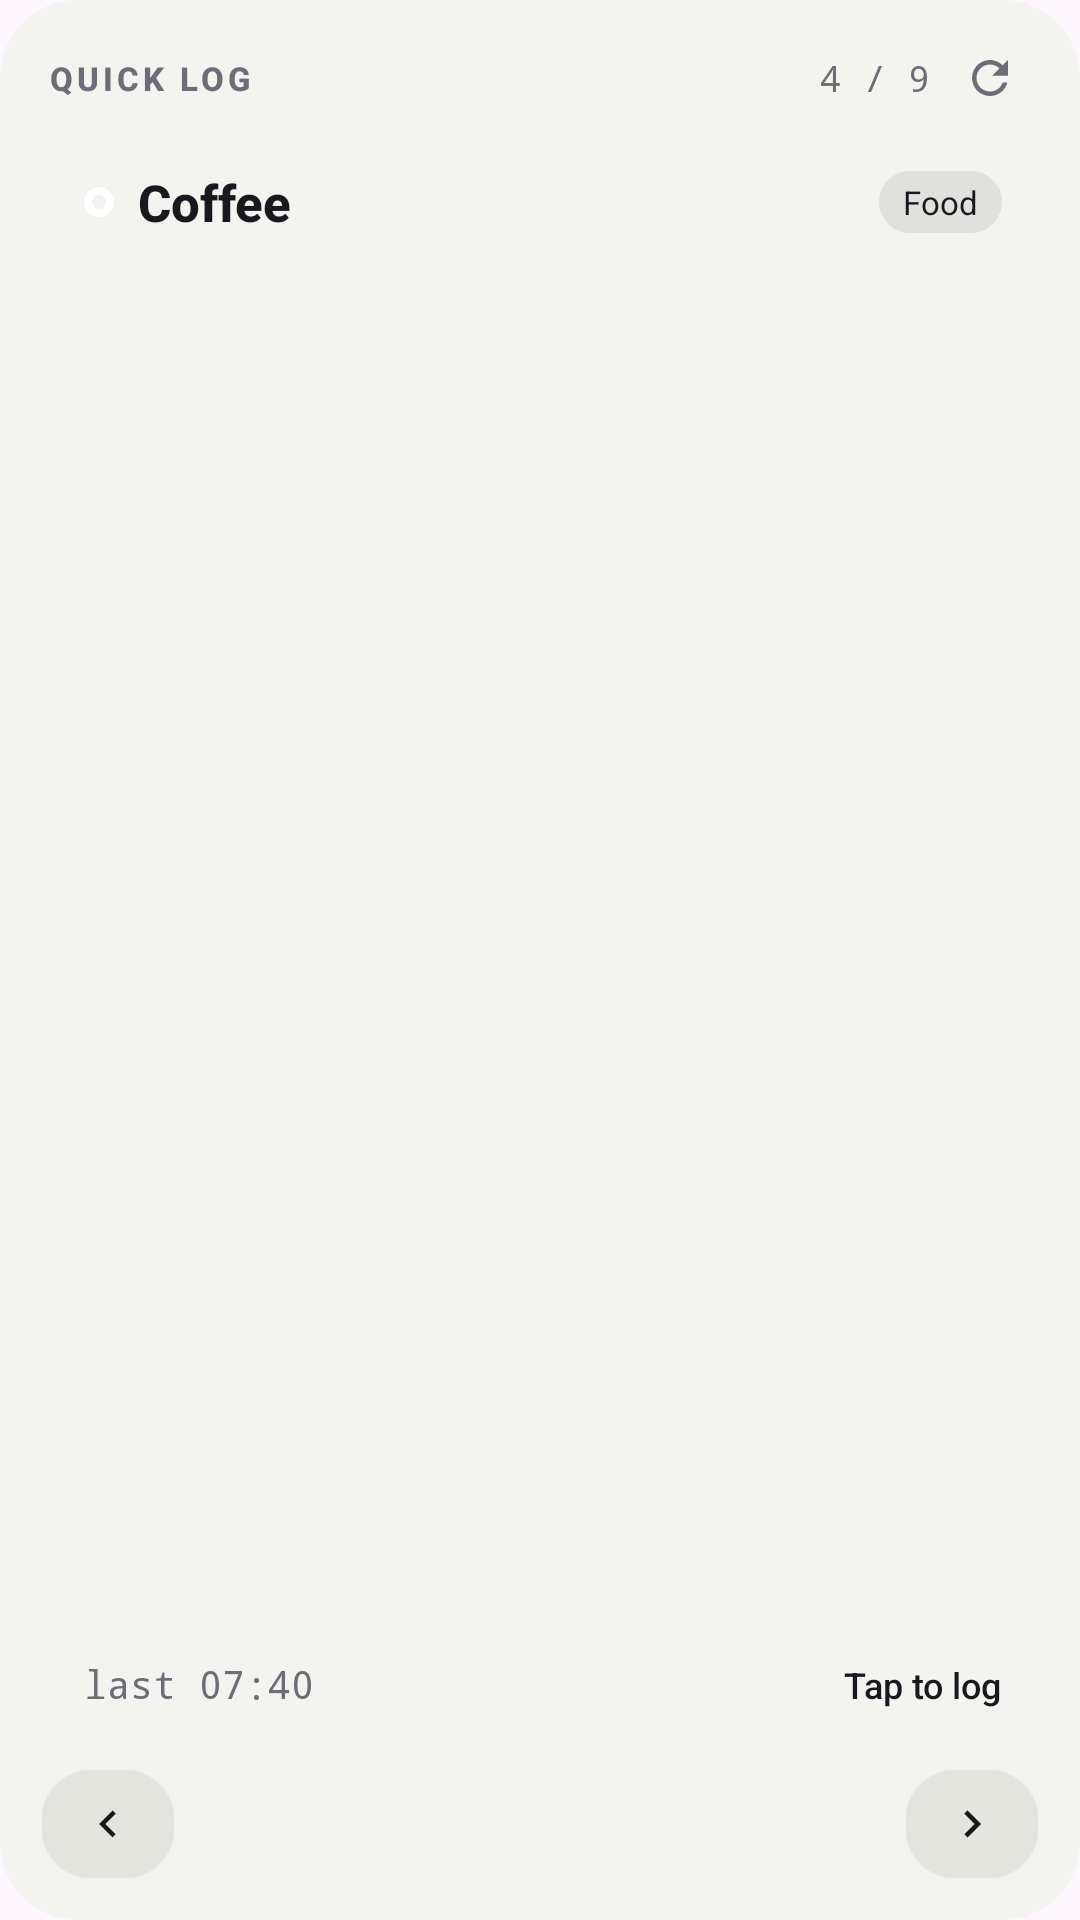

Icon bounding boxes for this 1080px x 1920px phone screenshot, format bbox=[x1, y1, x2, y2]:
Next: bbox=[906, 1770, 1038, 1878]
Previous: bbox=[42, 1770, 174, 1878]
Refresh widget: bbox=[972, 60, 1008, 96]
